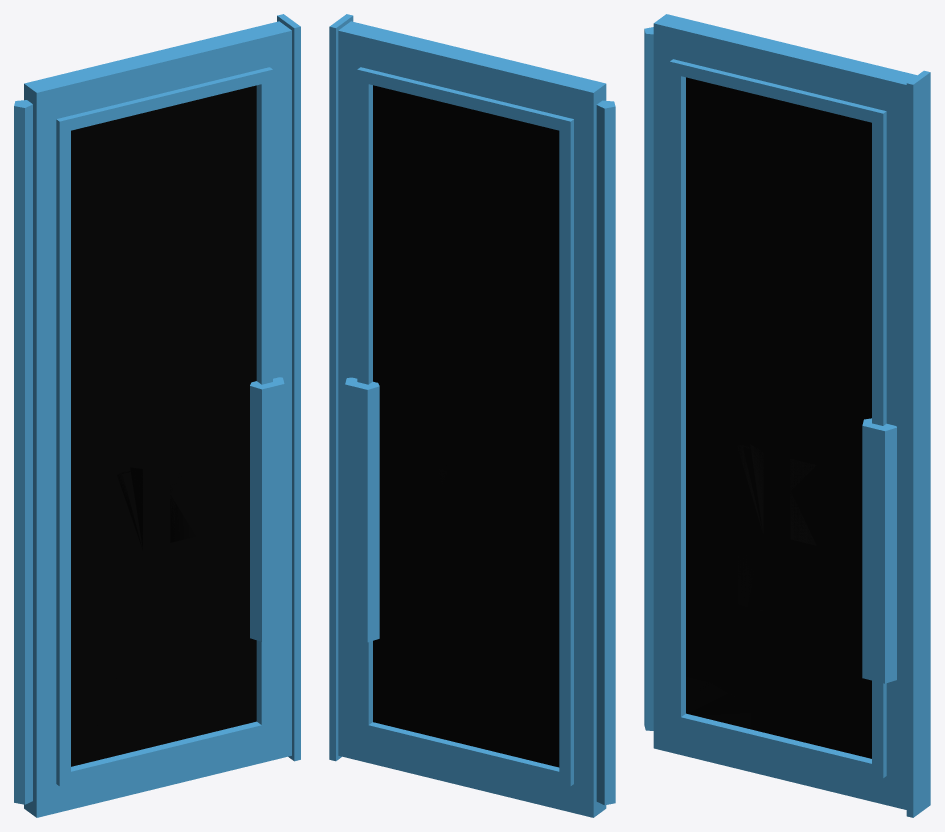
File: Door2.fbx
3 renders of one model, left to right at view 1: azimuth 30°, elevation 25°; view 2: azimuth 150°, elevation 25°; view 3: azimuth 330°, elevation 25°, orthographic.
Parts seen in each view (by area): view 1: Glass, Door, BrokenGlass_cell.066, BrokenGlass_cell.026, BrokenGlass_cell.044, BrokenGlass_cell.062, BrokenGlass_cell.019, BrokenGlass_cell.043, BrokenGlass_cell.086, BrokenGlass_cell.007, BrokenGlass_cell.049, BrokenGlass_cell.011 (+8 smaller); view 2: Glass, Door; view 3: Glass, Door, BrokenGlass_cell.066, BrokenGlass_cell.044, BrokenGlass_cell.062, BrokenGlass_cell.054, BrokenGlass_cell.026, BrokenGlass_cell.086, BrokenGlass_cell.019, BrokenGlass_cell.049, BrokenGlass_cell.007, BrokenGlass_cell.067 (+7 smaller).
Part boxes in pixels (x1,y1,x2,y2): Glass: [71, 85, 256, 766]; Door: [14, 14, 300, 817]; BrokenGlass_cell.066: [170, 618, 202, 706]; BrokenGlass_cell.026: [143, 466, 169, 552]; BrokenGlass_cell.044: [130, 390, 169, 468]; BrokenGlass_cell.062: [154, 542, 196, 623]; BrokenGlass_cell.019: [96, 558, 116, 638]; BrokenGlass_cell.043: [117, 552, 148, 633]; BrokenGlass_cell.086: [197, 548, 228, 617]; BrokenGlass_cell.007: [71, 653, 89, 728]; BrokenGlass_cell.049: [71, 725, 131, 765]; BrokenGlass_cell.011: [90, 322, 116, 399]; Glass: [373, 85, 559, 767]; Door: [329, 14, 615, 817]; Glass: [686, 77, 871, 758]; Door: [644, 14, 930, 817]; BrokenGlass_cell.066: [790, 622, 822, 708]; BrokenGlass_cell.044: [750, 375, 789, 457]; BrokenGlass_cell.062: [774, 540, 816, 626]; BrokenGlass_cell.054: [830, 392, 871, 475]; BrokenGlass_cell.026: [764, 453, 789, 540]; BrokenGlass_cell.086: [817, 546, 849, 633]; BrokenGlass_cell.019: [716, 525, 736, 604]; BrokenGlass_cell.049: [686, 676, 751, 729]; BrokenGlass_cell.007: [686, 595, 709, 681]; BrokenGlass_cell.067: [737, 297, 762, 372].
Bounding box in the file's own units: 101 × 254 × 18.75.
